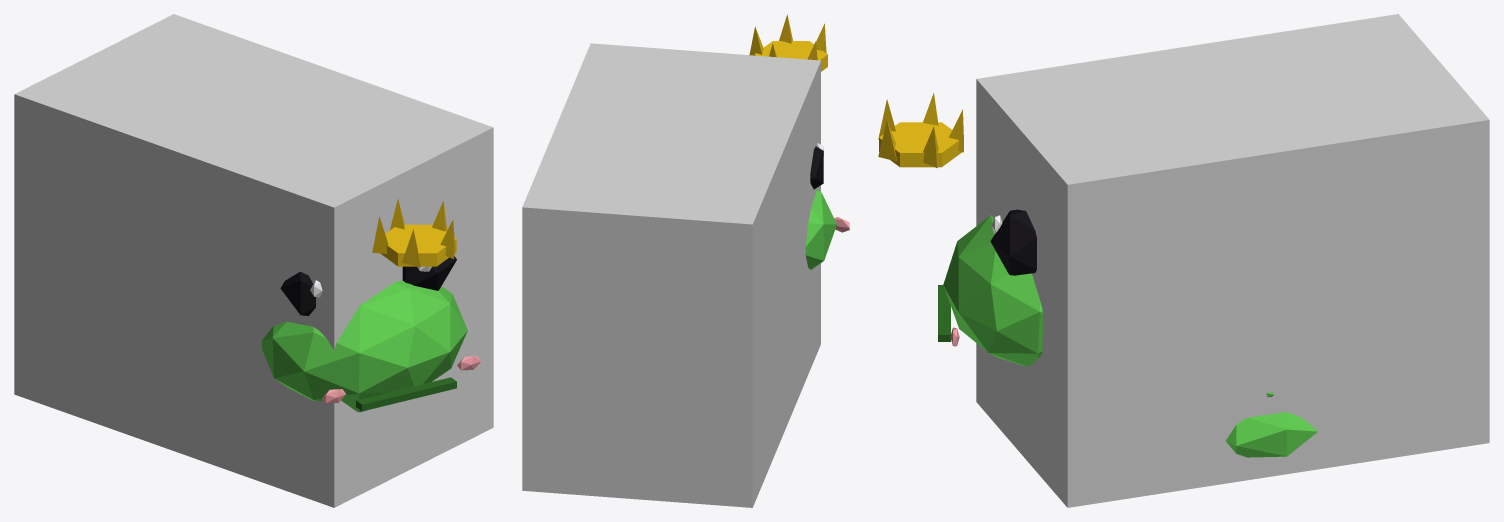
The model's file is jungle_pet3.fbx.
3 views of the same model, side by side, from view 1: azimuth 30°, elevation 25°; view 2: azimuth 150°, elevation 25°; view 3: azimuth 270°, elevation 25° (orthographic). The views are drawn at different scales.
Visible parts, largest first — view 1: Root__0.00_0.43_-0.16__0.64_0.86_1.08, Head__Body__0.00_0.31_-0.13; view 2: Root__0.00_0.43_-0.16__0.64_0.86_1.08, Head__Body__0.00_0.31_-0.13; view 3: Root__0.00_0.43_-0.16__0.64_0.86_1.08, Head__Body__0.00_0.31_-0.13, Body__Root__0.00_0.22_0.06.
Boxes of the visible parts, bbox=[...] form: Root__0.00_0.43_-0.16__0.64_0.86_1.08: bbox=[14, 14, 493, 507]; Head__Body__0.00_0.31_-0.13: bbox=[262, 199, 481, 412]; Root__0.00_0.43_-0.16__0.64_0.86_1.08: bbox=[522, 43, 820, 507]; Head__Body__0.00_0.31_-0.13: bbox=[749, 14, 849, 269]; Root__0.00_0.43_-0.16__0.64_0.86_1.08: bbox=[976, 14, 1489, 507]; Head__Body__0.00_0.31_-0.13: bbox=[878, 92, 1042, 366]; Body__Root__0.00_0.22_0.06: bbox=[1226, 392, 1317, 457].
Size of the model in its own units: 27.15 by 23.94 by 41.06.
1 material, 1 textured.
